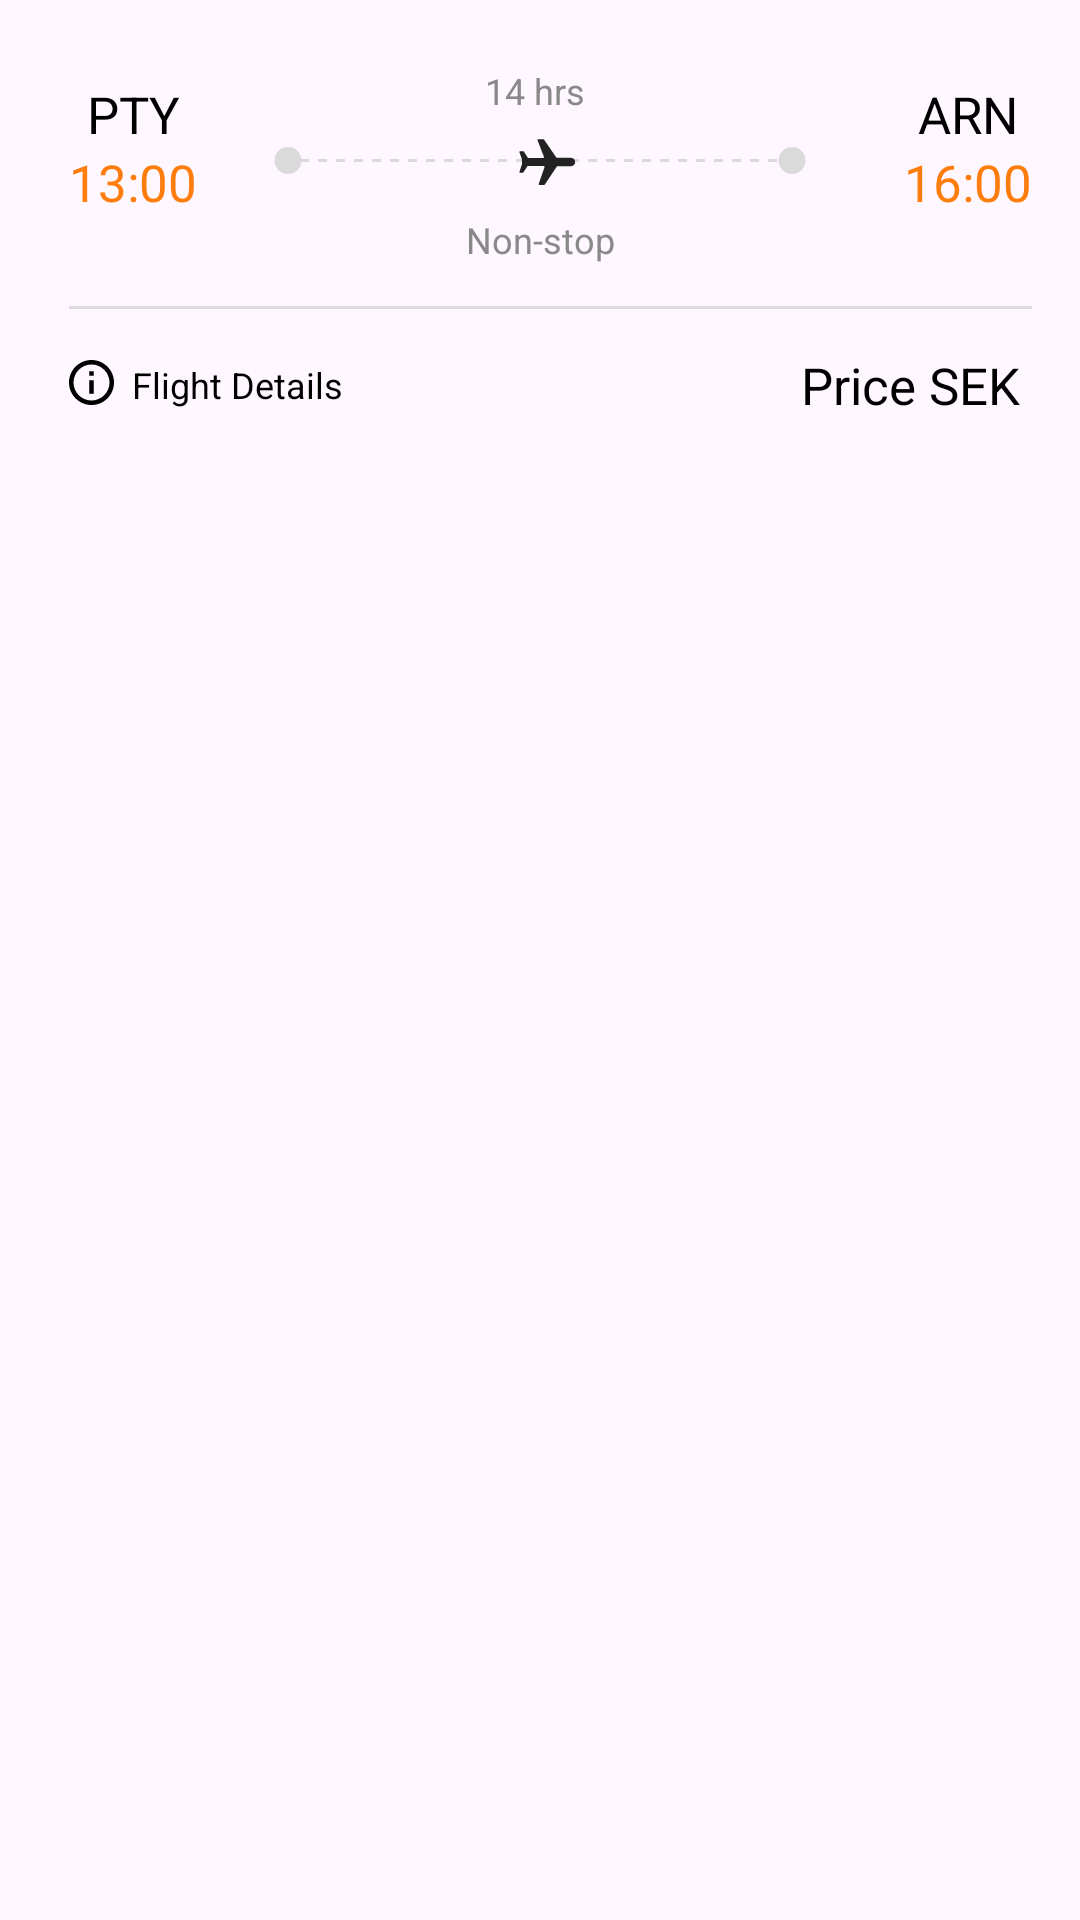

Icon bounding boxes for this 1080w x 1920h phone screenshot, format (x1, y1, x2, y2):
info: (69, 360, 114, 405)
